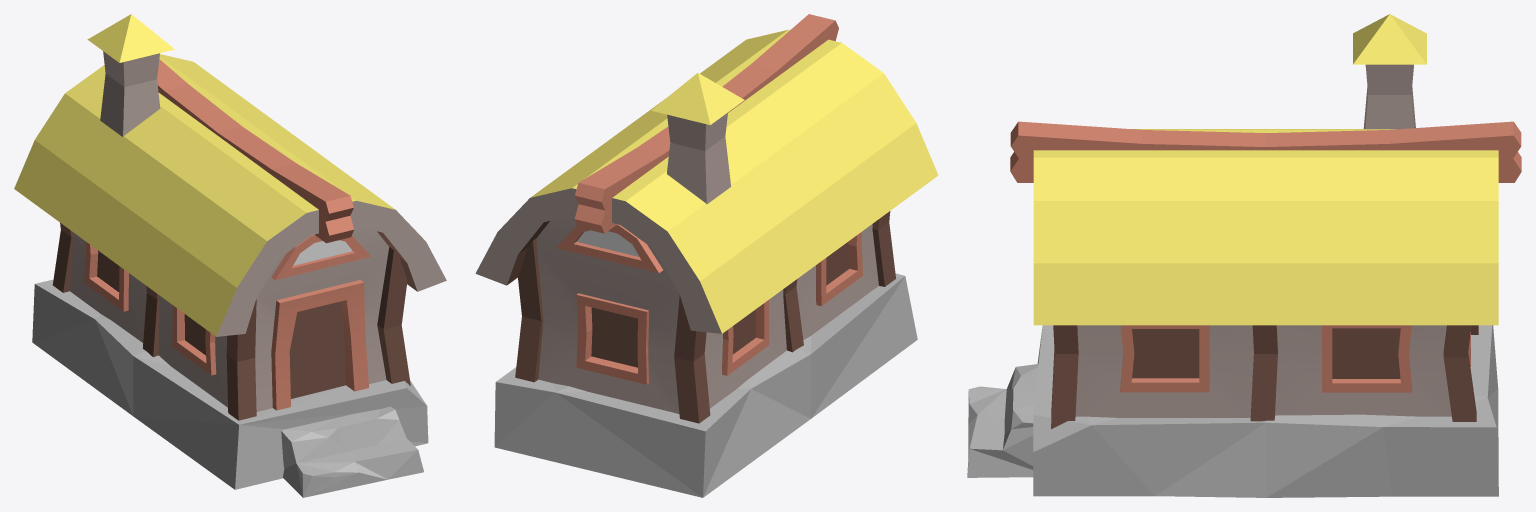
File: building_007.fbx
3 renders of one model, left to right at view 1: azimuth 30°, elevation 25°; view 2: azimuth 150°, elevation 25°; view 3: azimuth 270°, elevation 25°, orthographic. The views are drawn at different scales.
Visible parts, largest first — view 1: building.007; view 2: building.007; view 3: building.007.
Part boxes in pixels (left/top/right/bottom): building.007: left=14, top=14, right=446, bottom=497; building.007: left=475, top=14, right=938, bottom=497; building.007: left=967, top=14, right=1521, bottom=497.
Bounding box in the file's own units: 571 × 828 × 1034.
Materials: 1 (1 with a texture image).
